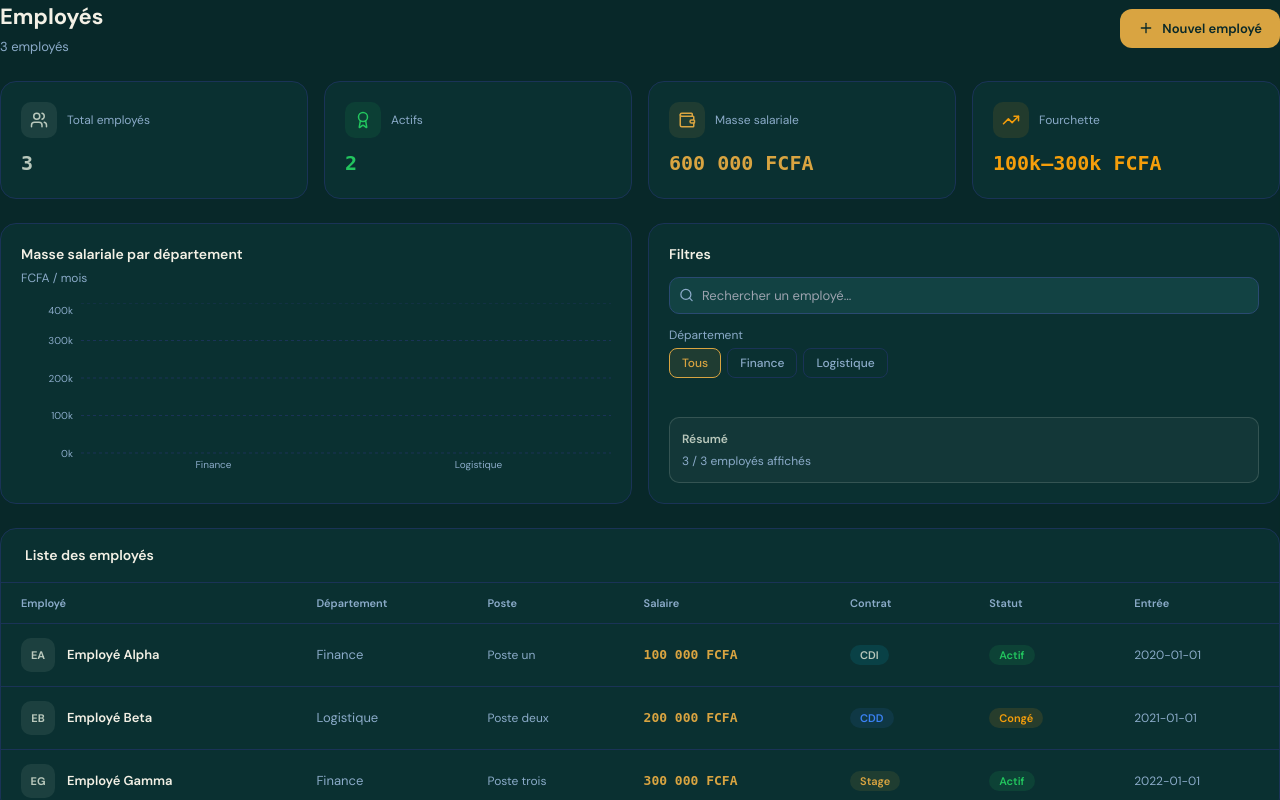
Test: EmployesPage › avec des employés saisis › filtre par recherche sur le nom ou le poste
Expected: the text "Employé Alpha" is shown, [67,645,160,665]
Step 1. Type "beta" into the field with placeholder "Rechercher un employé..." → x=964, y=295, box [669,276,1259,314]
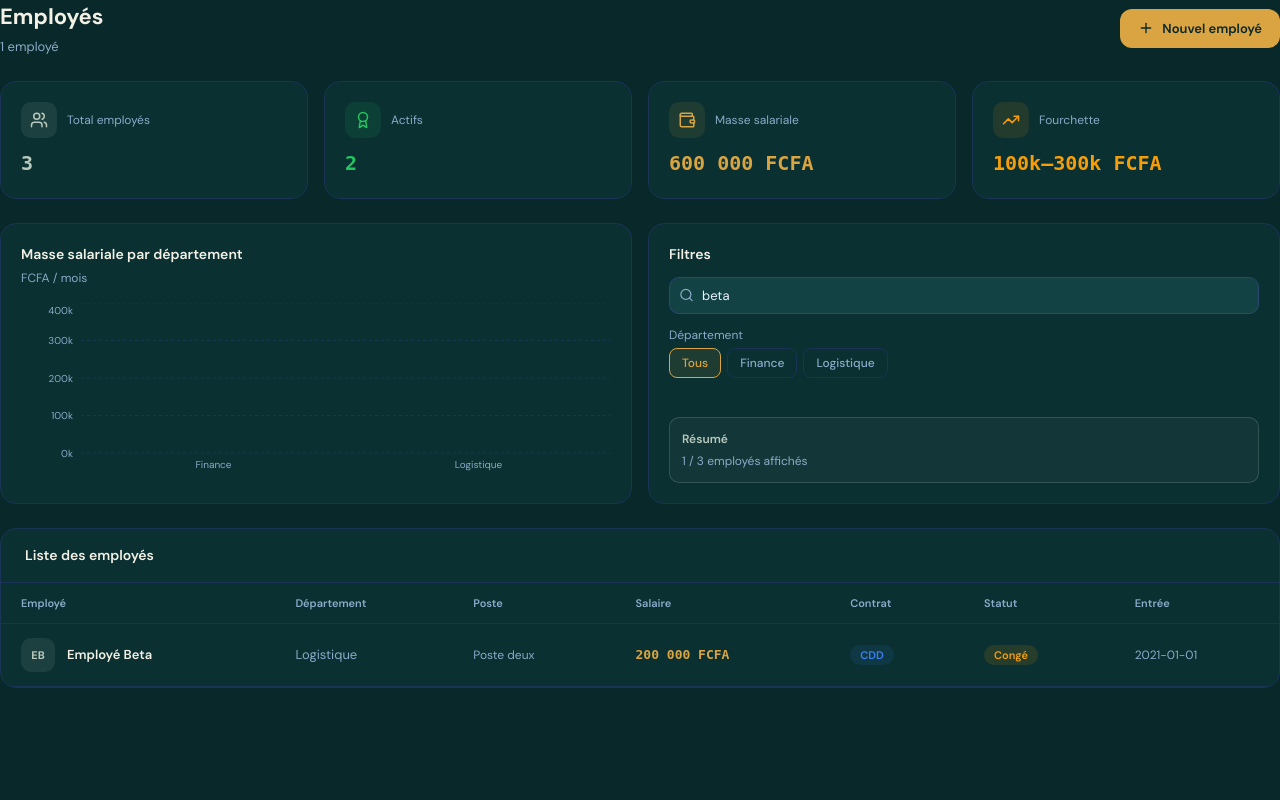
Expected: the text "Employé Beta" is shown, [67,645,152,665]
Expected: the text "Employé Alpha" is gone
Step 2. Replace the text in the field with placeholder "Rechercher un employé..." with "poste trois" → x=964, y=295, box [669,276,1259,314]
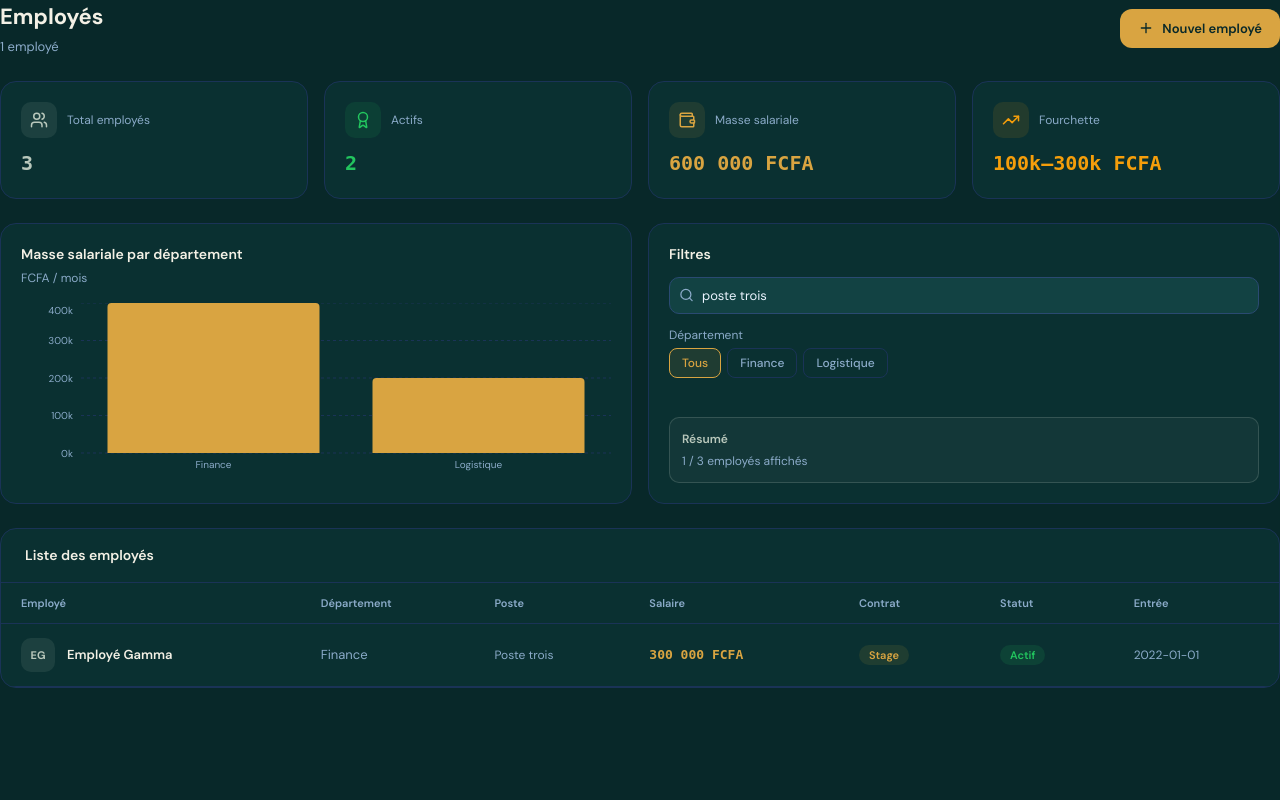
Expected: the text "Employé Gamma" is shown, [67,645,173,665]
